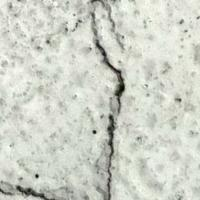crack: (77, 6, 130, 199)
